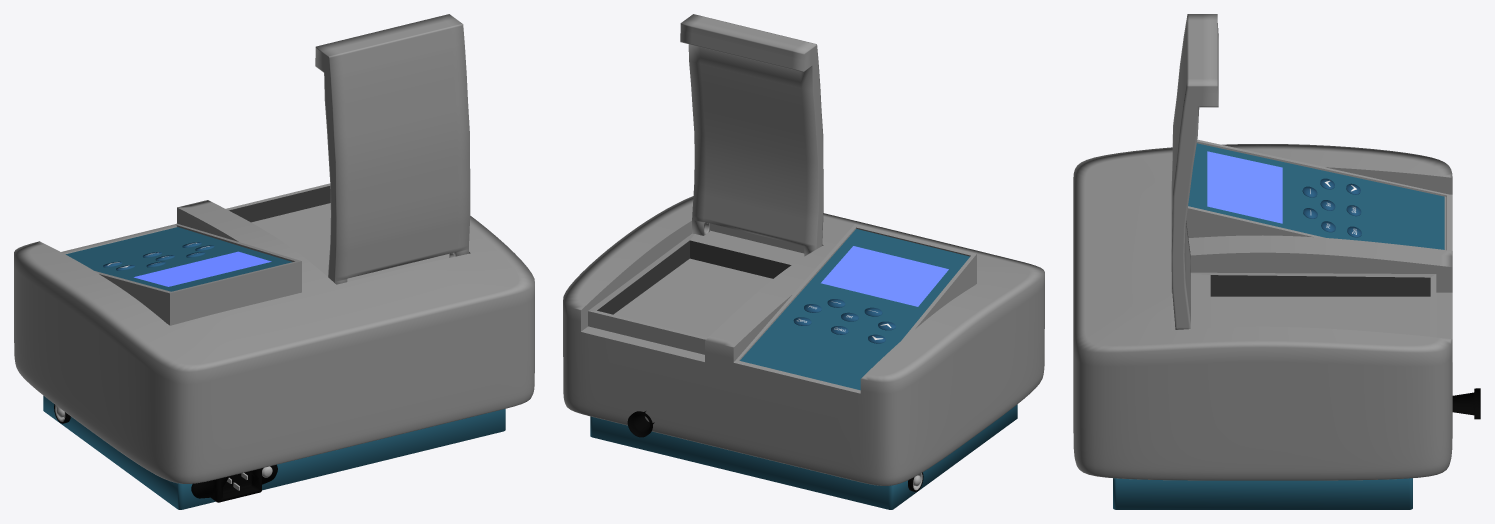
File: scpectrophotometer.fbx
The picture shows the model from 3 angles, left to right: view 1: azimuth 30°, elevation 25°; view 2: azimuth 150°, elevation 25°; view 3: azimuth 270°, elevation 25°; orthographic projection. The views are drawn at different scales.
Parts seen in each view (by area): view 1: MainPartSpectrophotometer, Крышка, Дисплей, Cube.004, Основная часть.002, Cube.003; view 2: MainPartSpectrophotometer, Крышка, Дисплей, Cube.004, Основная часть.002; view 3: MainPartSpectrophotometer, Дисплей, Cube.004, Крышка, Основная часть.002, Ручка столика с кюветами.001.
Boxes of the visible parts, <box> form: MainPartSpectrophotometer: <box>14,200,534,483</box>; Крышка: <box>315,14,470,284</box>; Дисплей: <box>61,224,301,325</box>; Cube.004: <box>43,396,505,509</box>; Основная часть.002: <box>226,183,449,281</box>; Cube.003: <box>191,464,277,502</box>; MainPartSpectrophotometer: <box>563,196,1044,485</box>; Крышка: <box>680,14,823,256</box>; Дисплей: <box>734,224,976,393</box>; Cube.004: <box>590,404,1017,509</box>; Основная часть.002: <box>588,230,804,354</box>; MainPartSpectrophotometer: <box>1073,144,1452,480</box>; Дисплей: <box>1172,134,1452,250</box>; Cube.004: <box>1113,478,1412,509</box>; Крышка: <box>1171,14,1218,329</box>; Основная часть.002: <box>1172,272,1436,337</box>; Ручка столика с кюветами.001: <box>1452,388,1480,419</box>.
Bounding box in the file's own units: 47 × 45.19 × 39.73.
10 materials, 1 textured.
